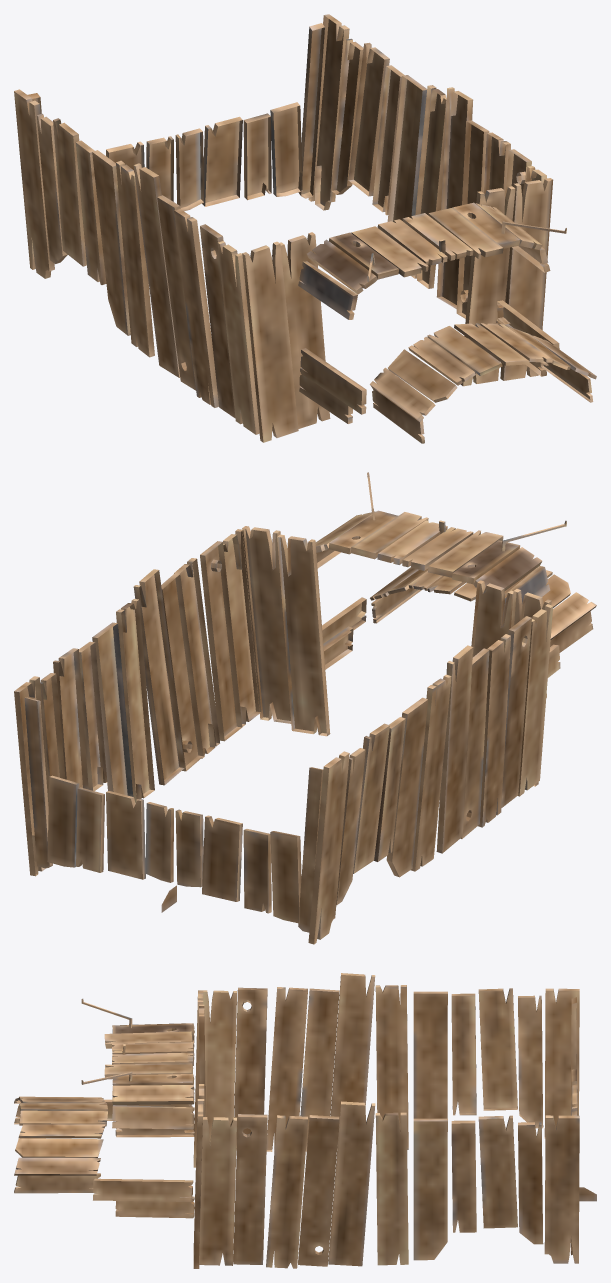
The model's file is Truck_v006_wood.obj.
3 views of the same model, one above another, from view 1: azimuth 30°, elevation 25°; view 2: azimuth 150°, elevation 25°; view 3: azimuth 270°, elevation 25° (orthographic). The views are drawn at different scales.
Parts seen in each view (by area): view 1: Truck_wood; view 2: Truck_wood; view 3: Truck_wood.
Part boxes in pixels (left/top/right/bottom): Truck_wood: left=14, top=14, right=596, bottom=443; Truck_wood: left=14, top=472, right=596, bottom=944; Truck_wood: left=14, top=973, right=596, bottom=1268.
Bounding box in the file's own units: 2.17 × 1.35 × 4.08.
